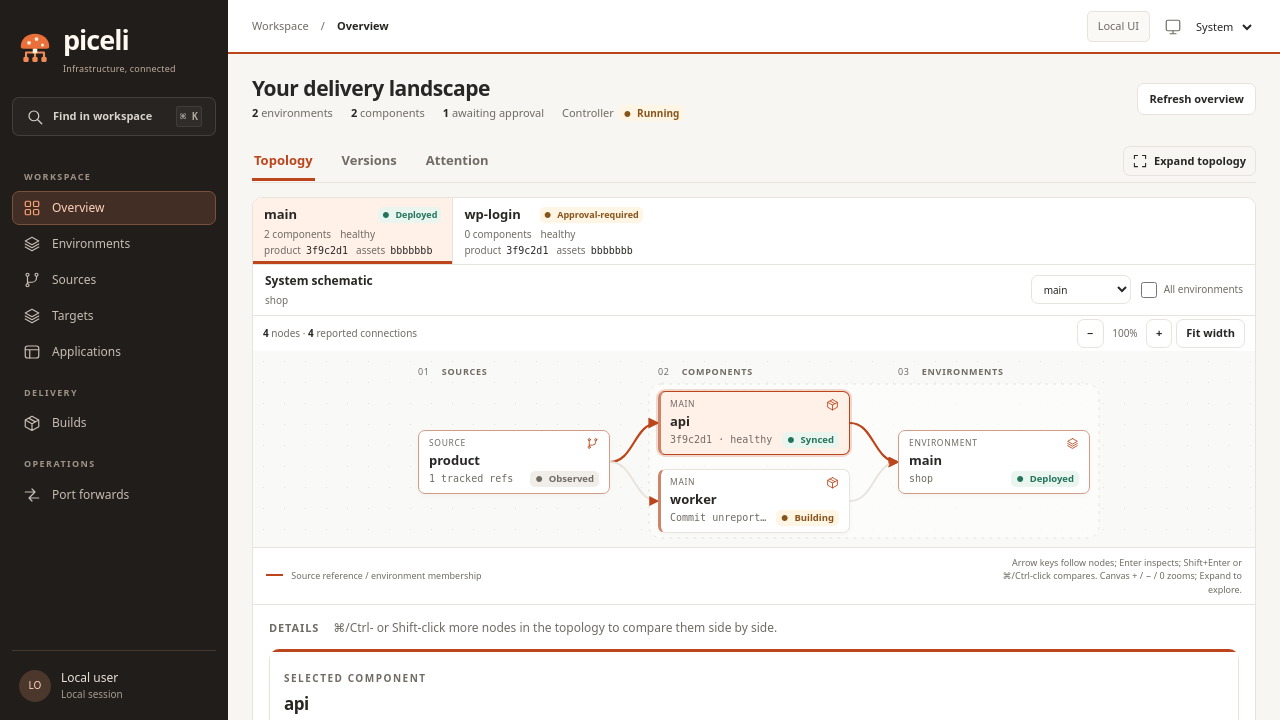
Test: opens the infrastructure graph at the root and keeps the environment inventory one click away
Expected: the element named "Infrastructure topology" is shown, top-left (253, 351), bottom-right (1255, 547)
Click the link "Environments" at (77, 244), box top-left (23, 235), bottom-right (130, 253)
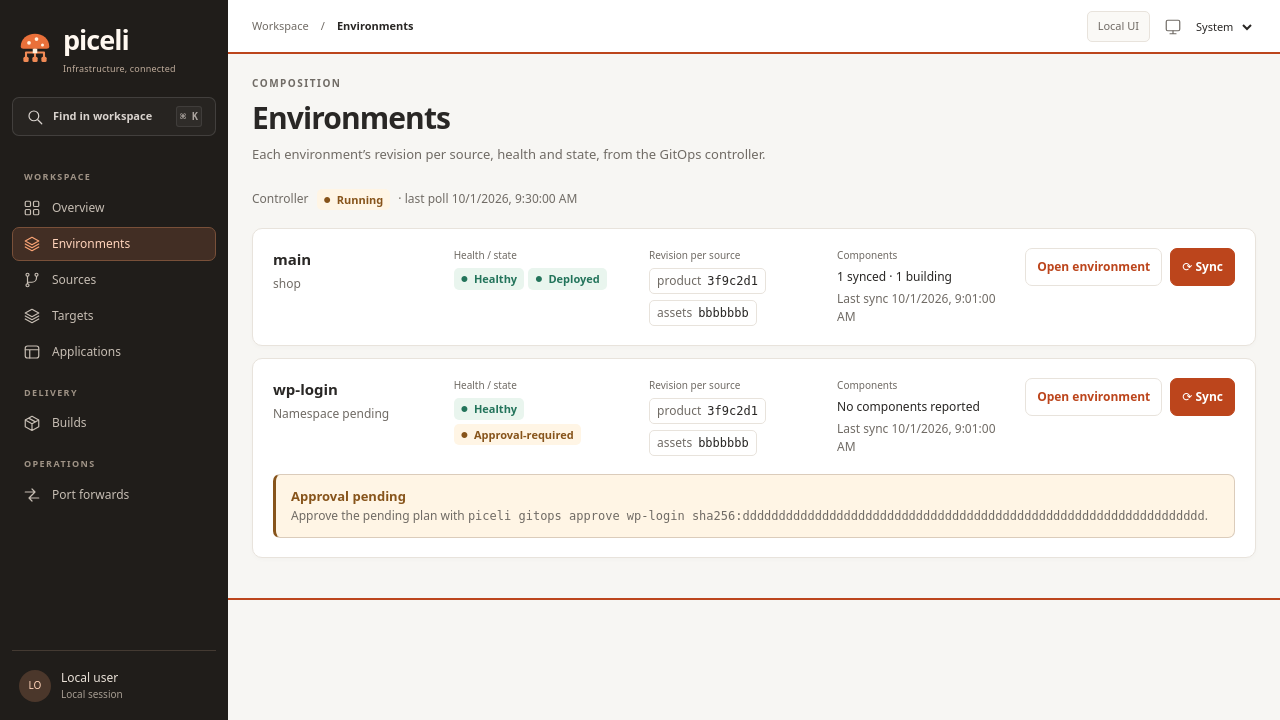
Now the heading "Environments" is shown, box top-left (252, 97), bottom-right (450, 138)
Now the button with aria-label "Sync main" is shown, box top-left (1170, 248), bottom-right (1235, 286)
